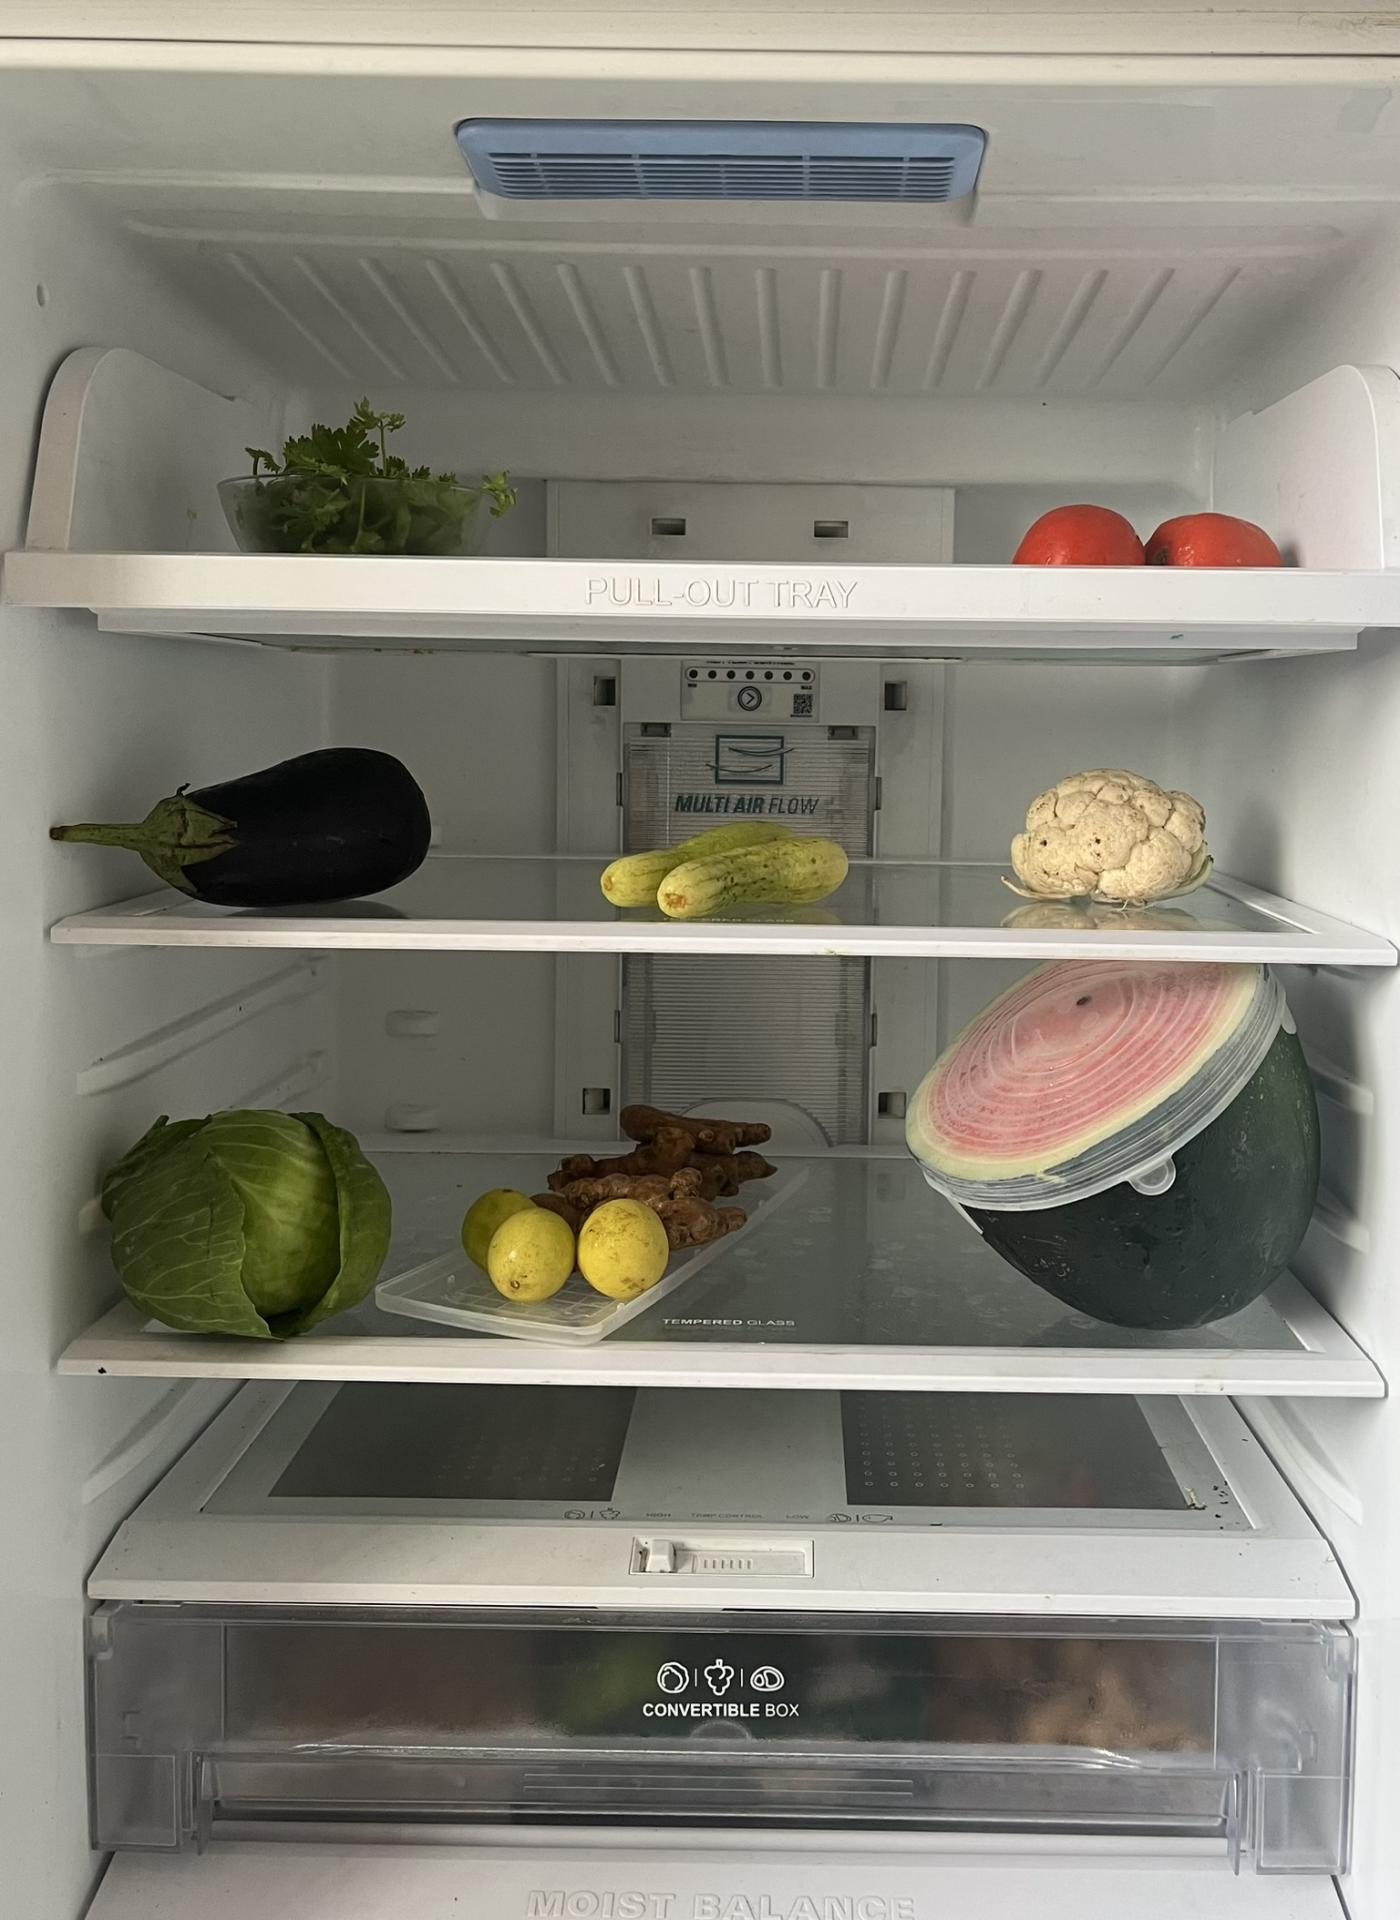cabbage: (94, 1109, 386, 1340)
cauliflower: (1012, 766, 1212, 897)
coriander: (231, 397, 495, 559)
cucumber: (589, 835, 866, 909)
ginger: (550, 1109, 772, 1222)
lemon: (462, 1188, 677, 1309)
tomato: (1015, 498, 1285, 566)
watermelon: (902, 956, 1334, 1328)
